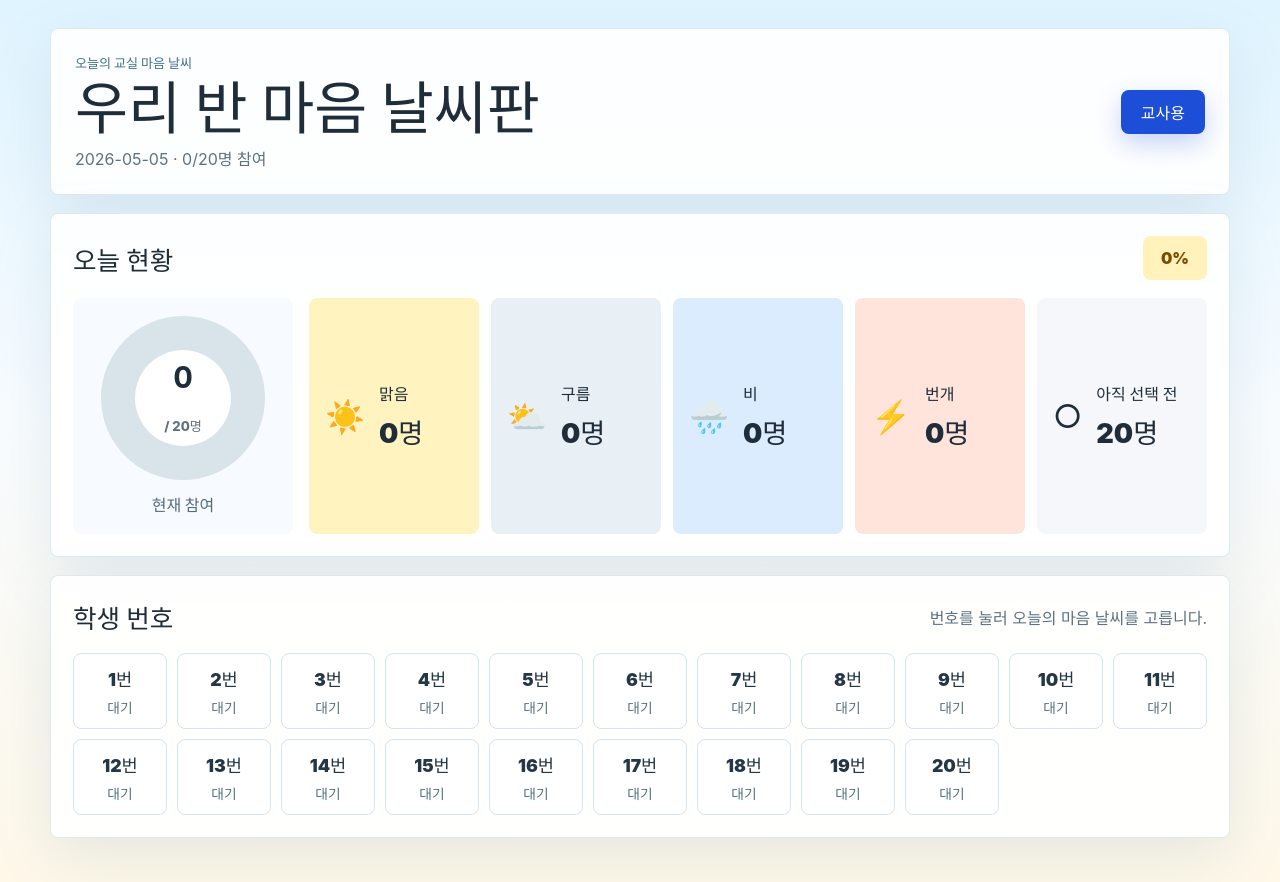
Test case: Classroom emotion tracker app › shows individual weather after PIN unlock
Click the button with aria-label "2번 마음 날씨 선택" at x=224, y=692, box [177,654,271,730]
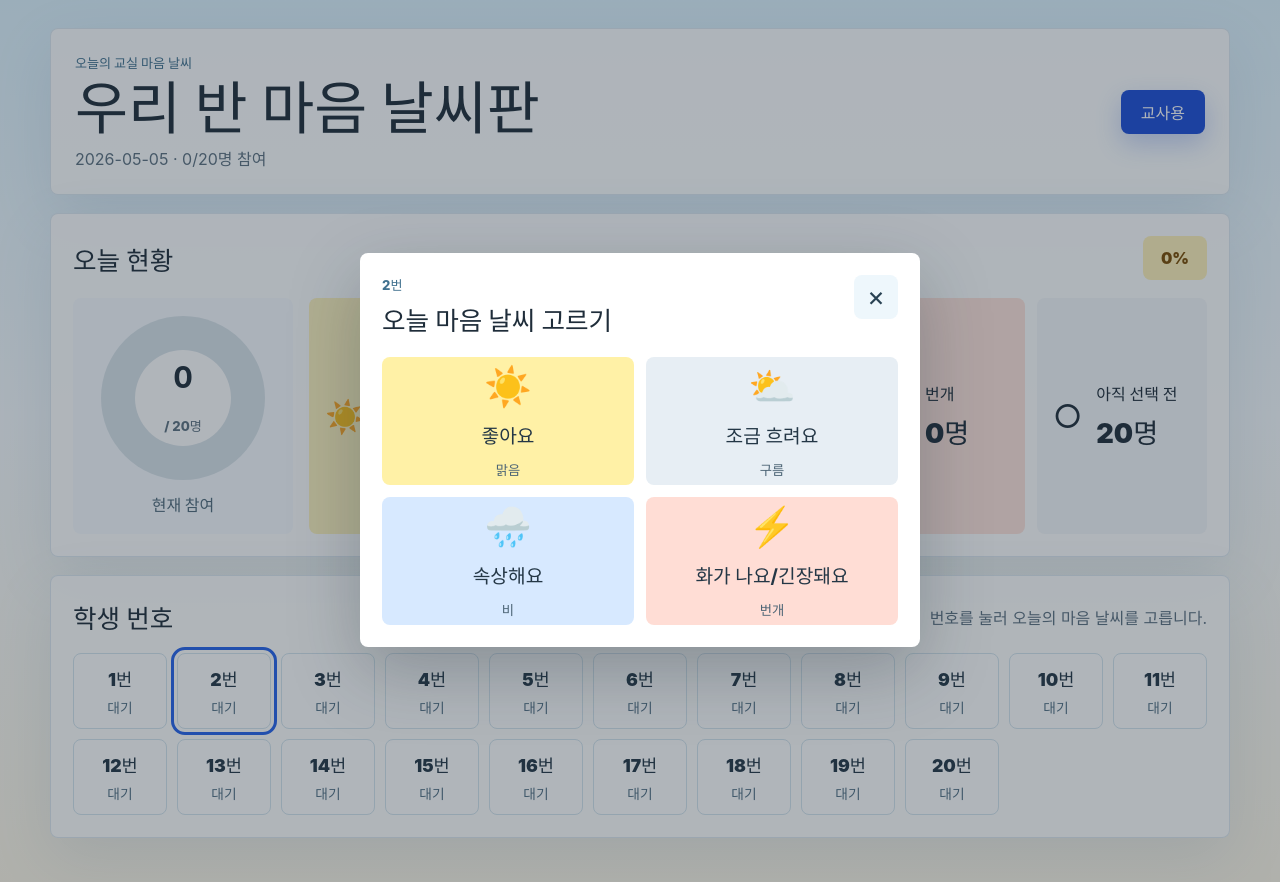
Click the button with aria-label "🌧️ 속상해요 선택" at x=508, y=561, box [382,497,634,625]
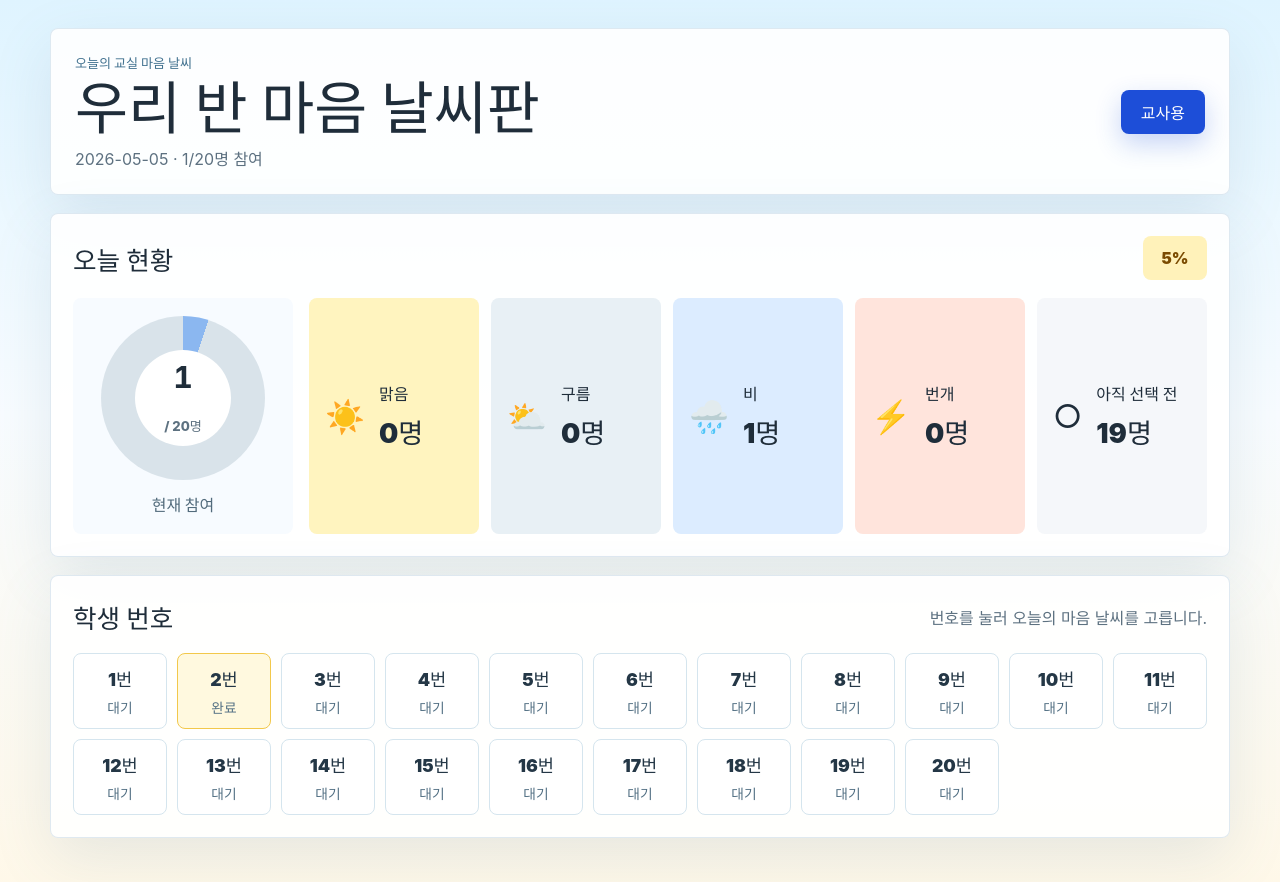
Click the button with aria-label "선생님 모드 열기" at x=1163, y=112, box [1121,90,1205,134]
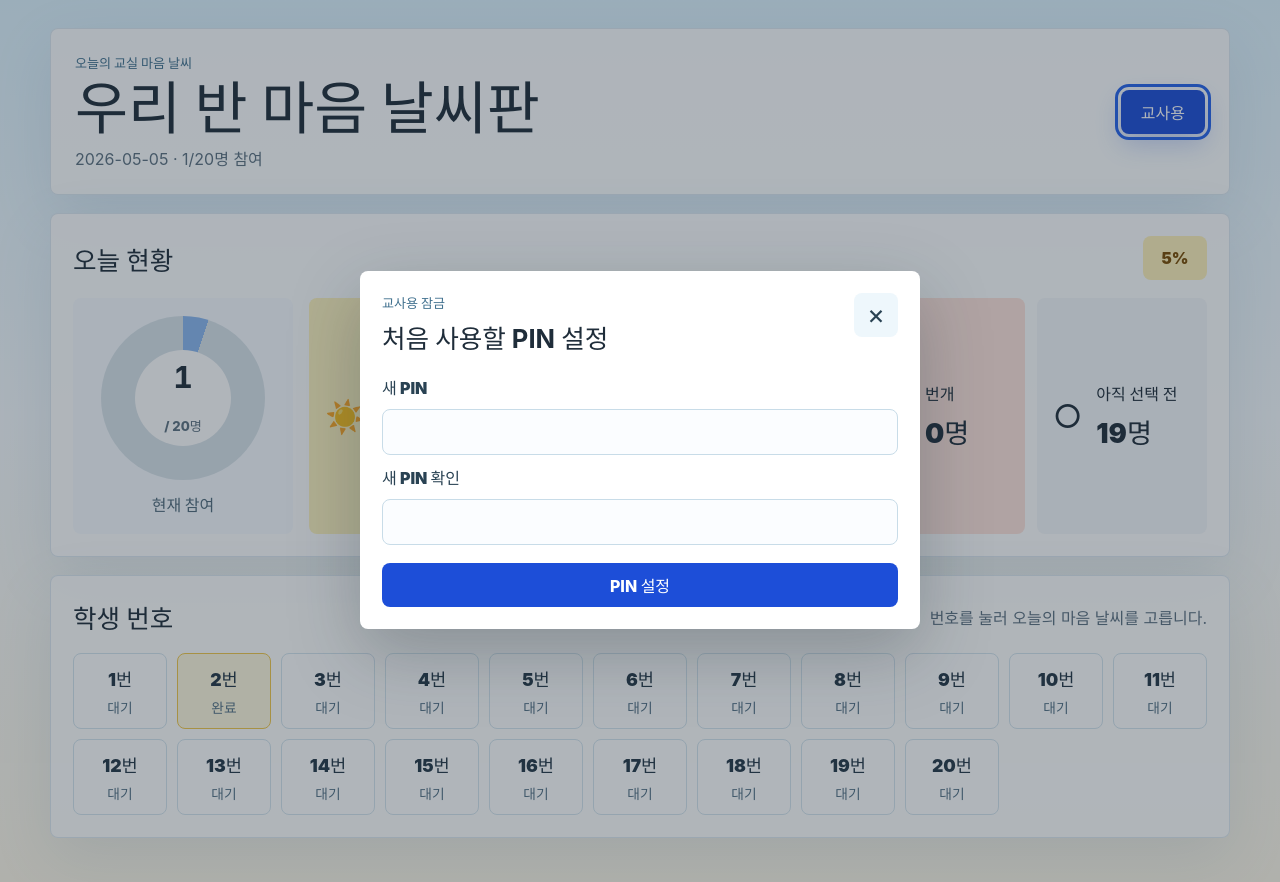
Type "1357" into the password field labelled "새 PIN" at x=640, y=432, box [382,409,898,455]
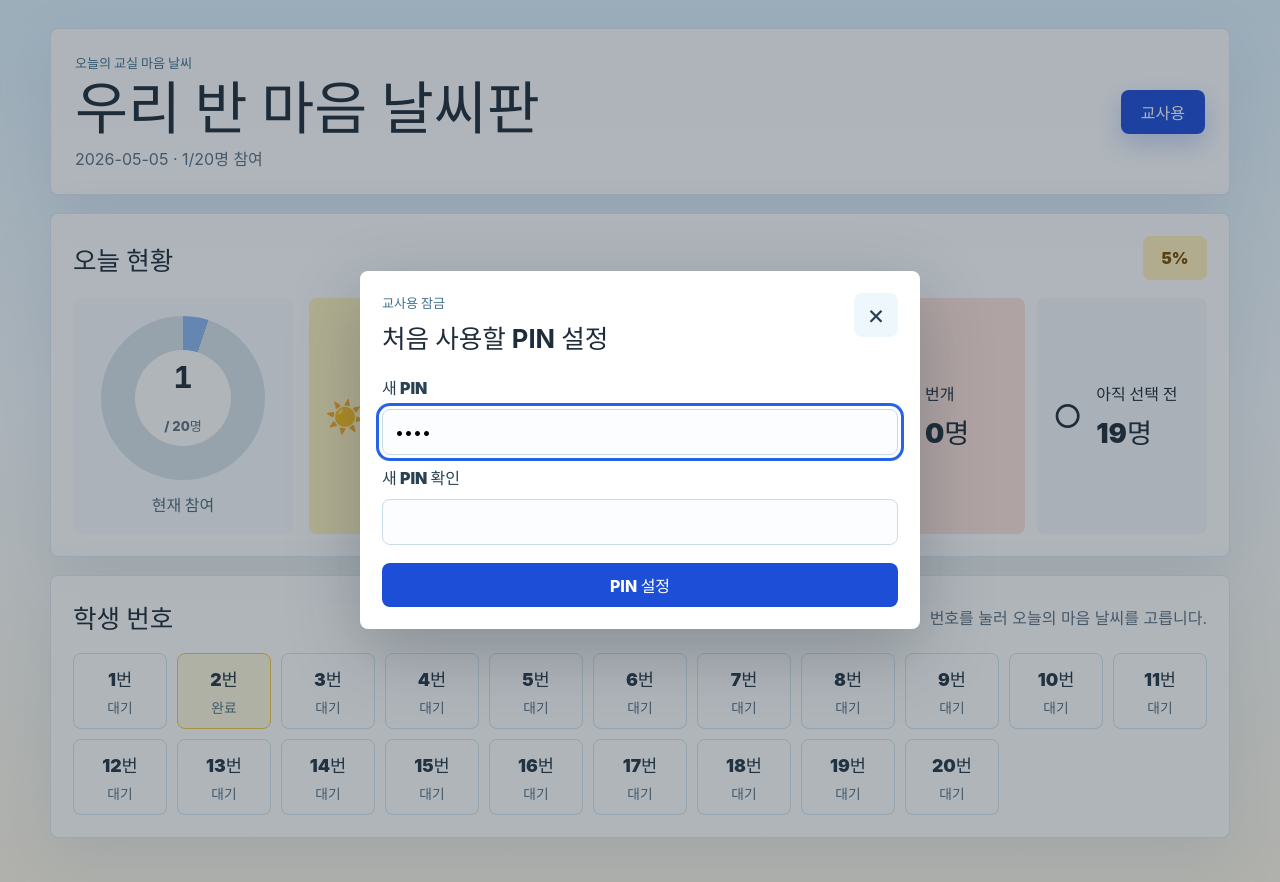
Type "1357" into the password field labelled "새 PIN 확인" at x=640, y=522, box [382,499,898,545]
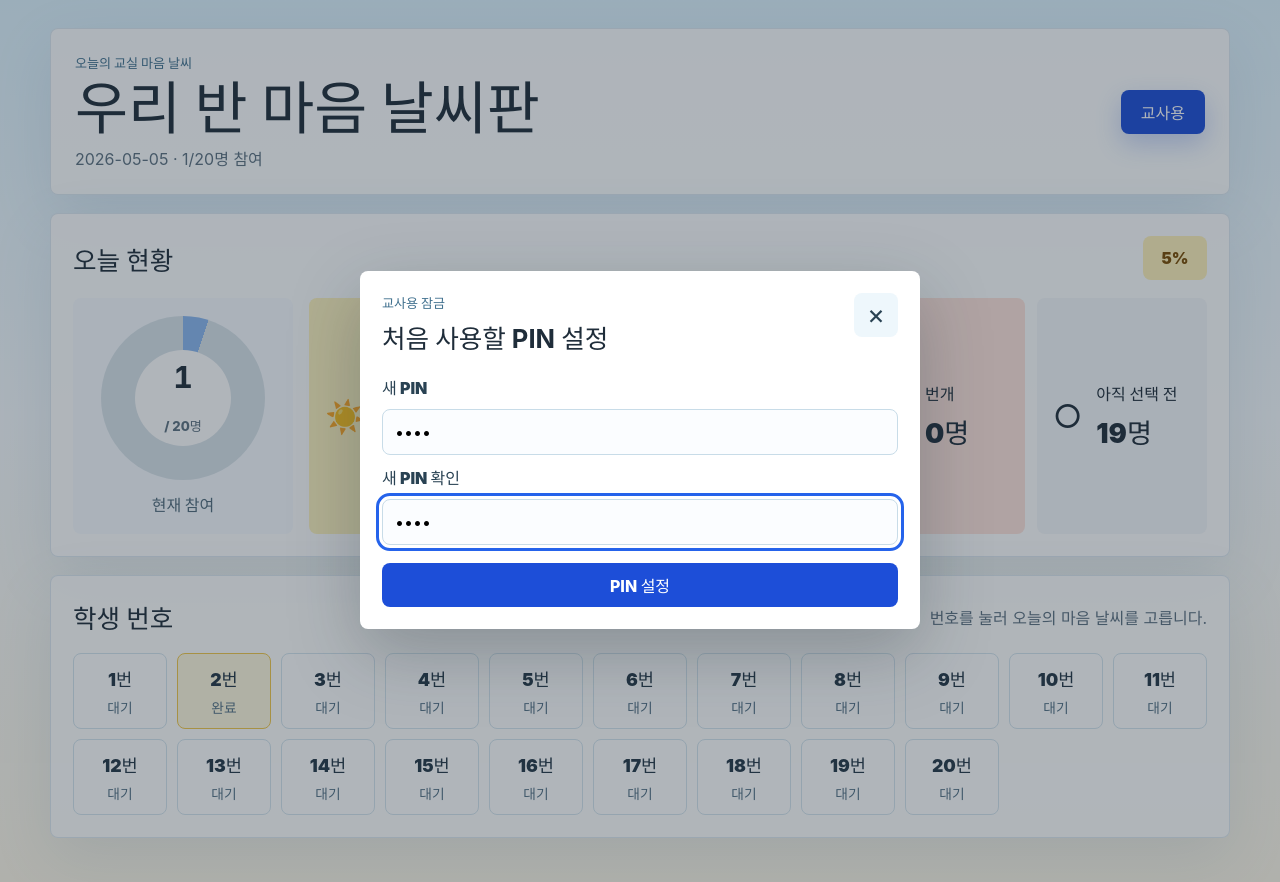
Click the button "PIN 설정" at x=640, y=585, box [382,563,898,607]
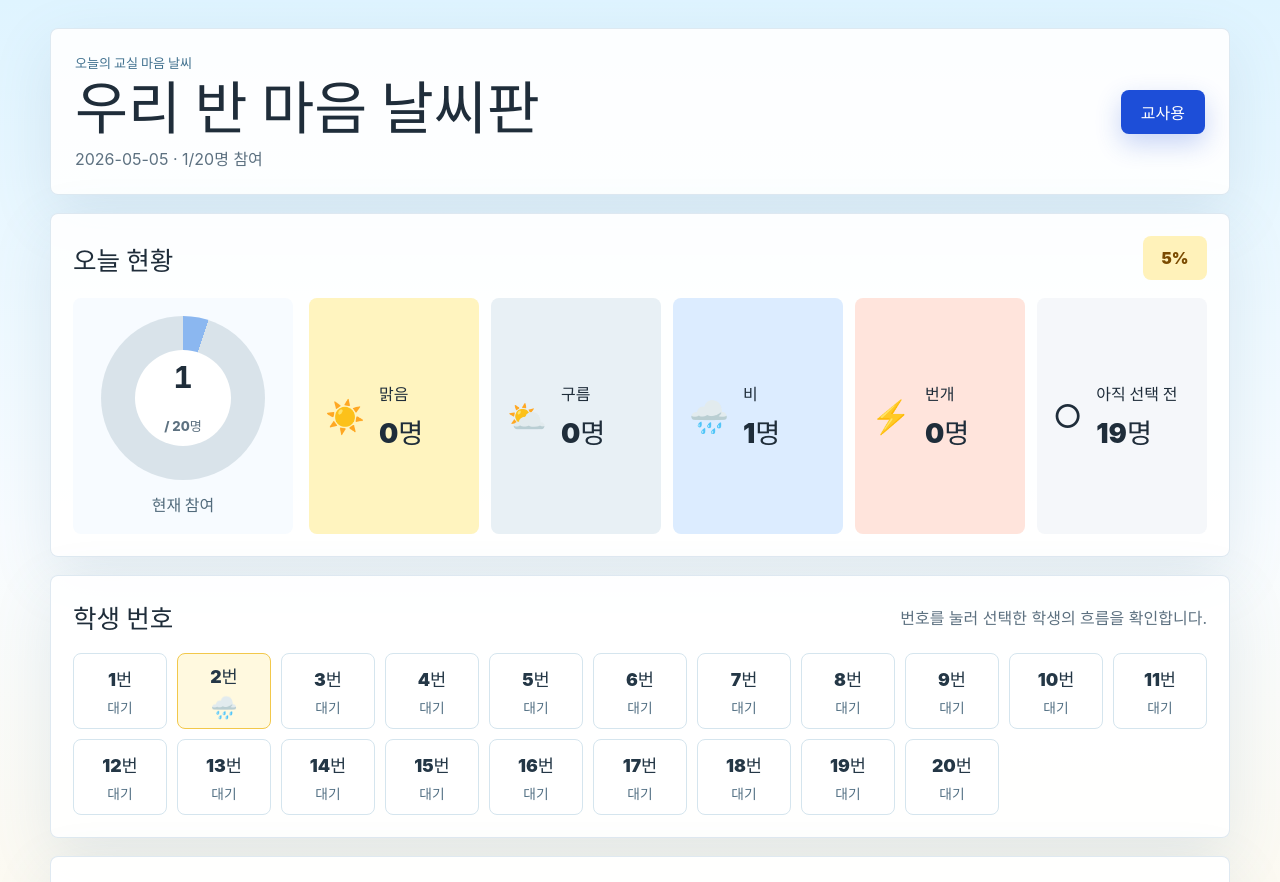
Check: the button named "2번 🌧️ 비" is shown, box [177,654,271,730]
